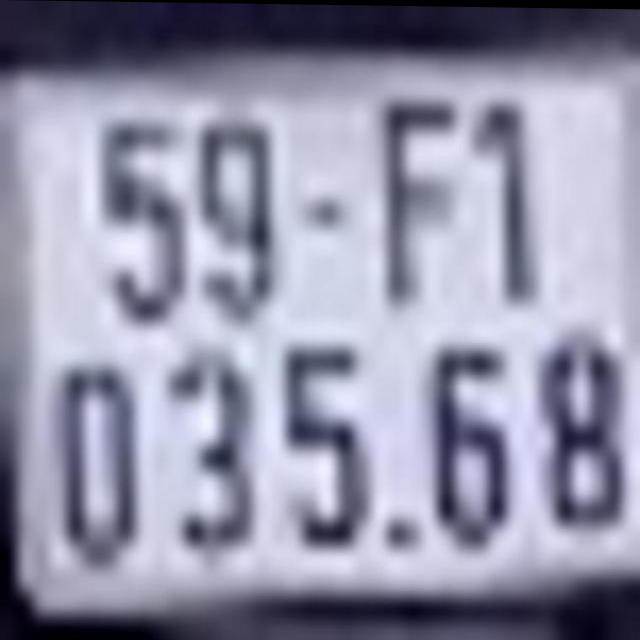0: (59, 364, 135, 570)
1: (469, 93, 532, 307)
3: (165, 349, 256, 555)
5: (96, 115, 190, 323), (280, 339, 370, 547)
6: (433, 333, 512, 545)
8: (538, 321, 625, 535)
9: (196, 116, 280, 323)
F: (376, 92, 460, 299)
